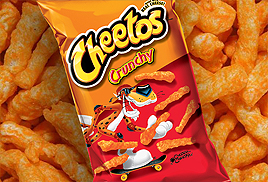cheetos: (39, 0, 230, 181)
